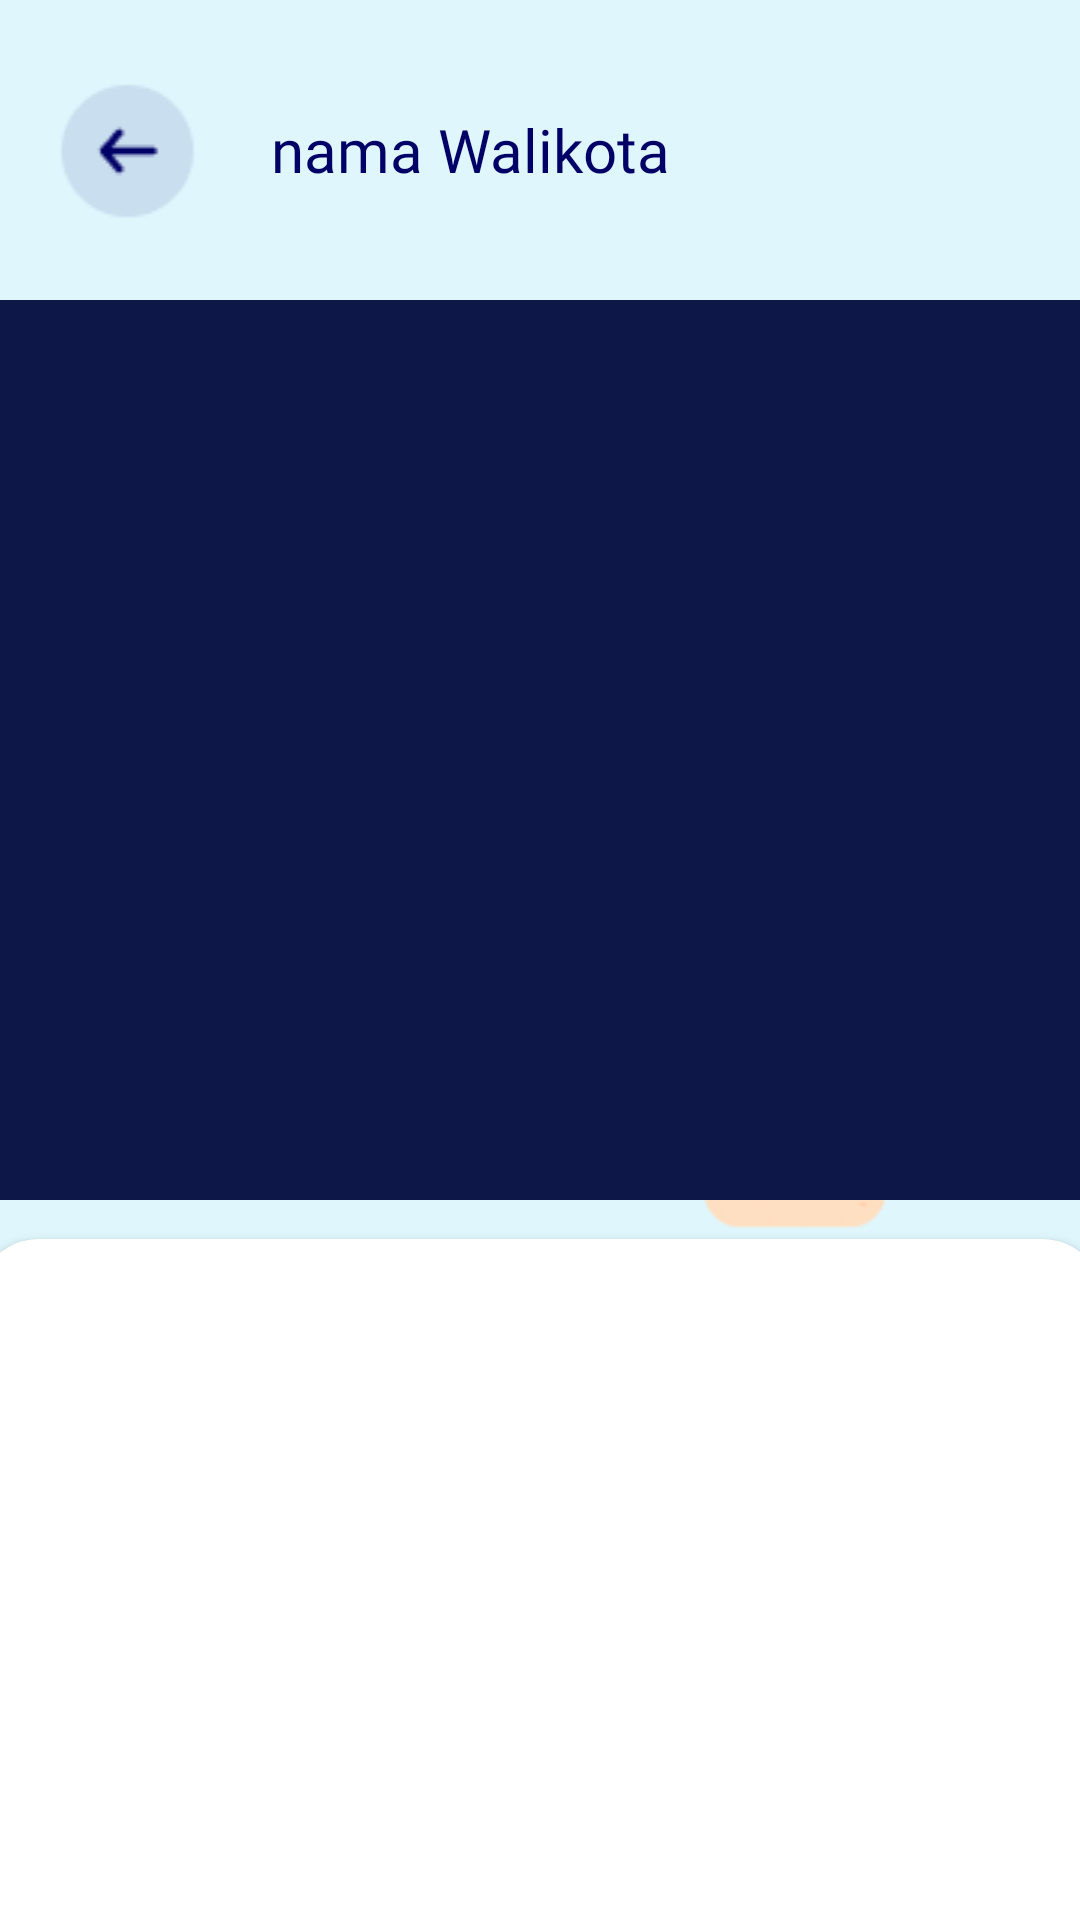

Point at icon controls on the screen. Image size 1080px x 1920px, points as [x,y].
back: [127,151]
